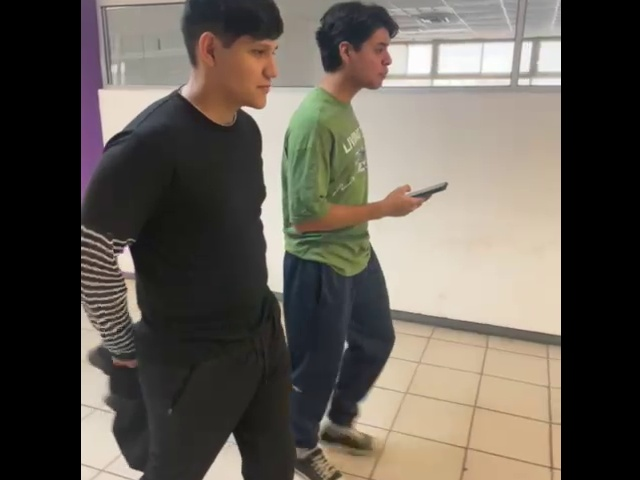mixto2: (400, 171, 456, 204)
